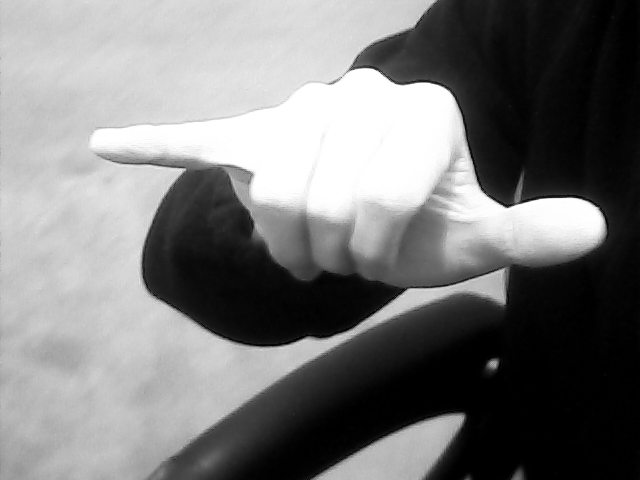aloha: (89, 65, 609, 288)
